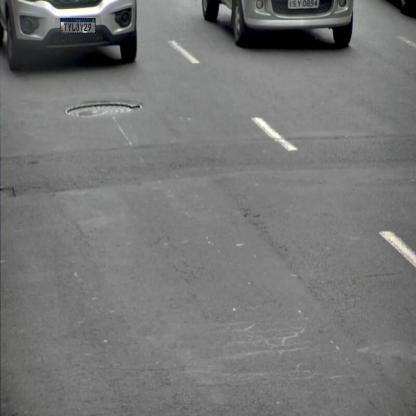PlacaM: (60, 18, 96, 33)
